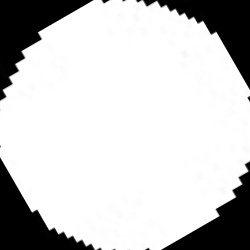spot: (1, 1, 249, 249)
